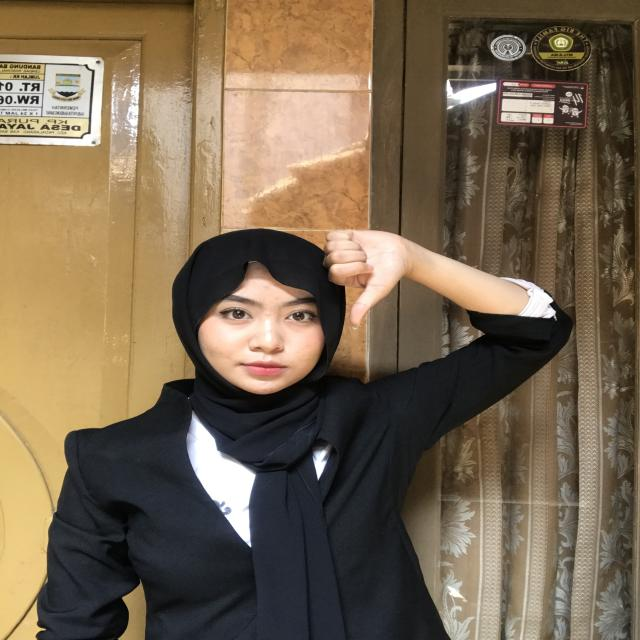sedih: (304, 222, 419, 361)
